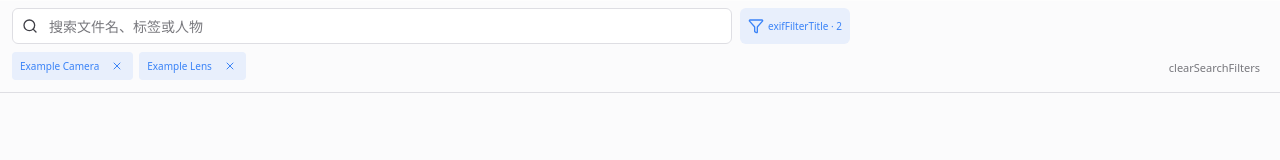
SearchBar › shows active EXIF filter details and removes one filter with a localized name
Expected: the text "Example Camera" is shown, [20,58,99,74]
Expected: the text "Example Lens" is shown, [147,58,212,74]
Click the button named "移除筛选条件 Example". click: (117, 66)
box: [105,54,129,78]
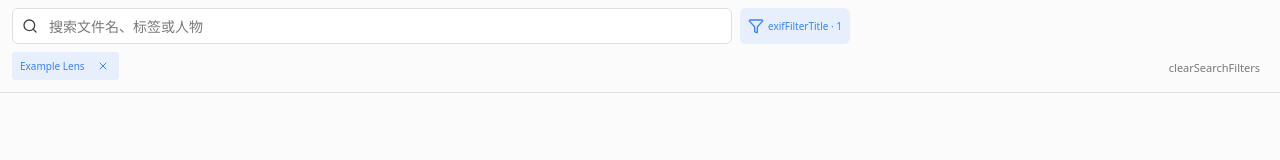
Expected: the text "Example Lens" is shown, [20,58,85,74]
Expected: the text "Example Camera" is gone
